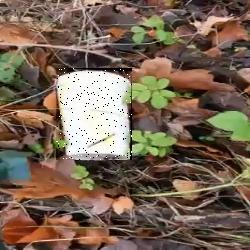restaffald: (56, 68, 132, 160)
